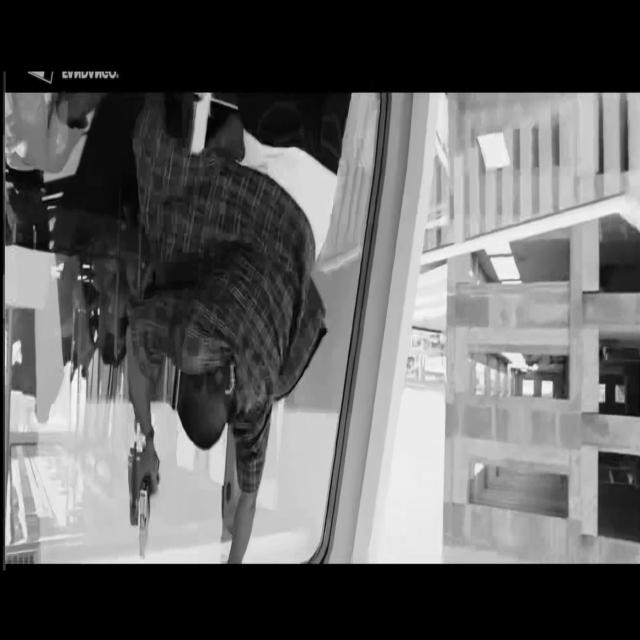weapons: (129, 437, 161, 559)
